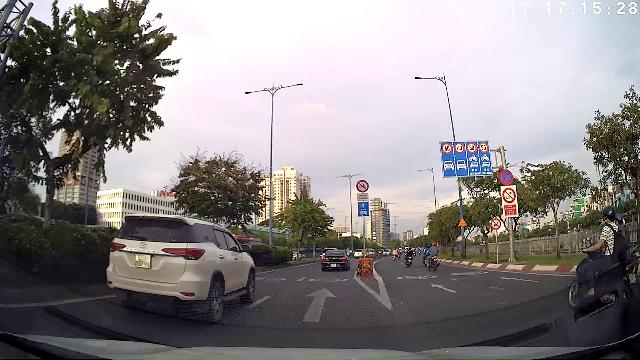103a-cam-oto: (491, 219, 502, 229)
127-toc-do-toi-da-50: (467, 142, 477, 154), (479, 143, 489, 153)
127-toc-do-toi-da-60: (455, 142, 465, 154), (442, 144, 452, 154)
130-cam-dung-va-do-xe: (499, 170, 513, 184)
